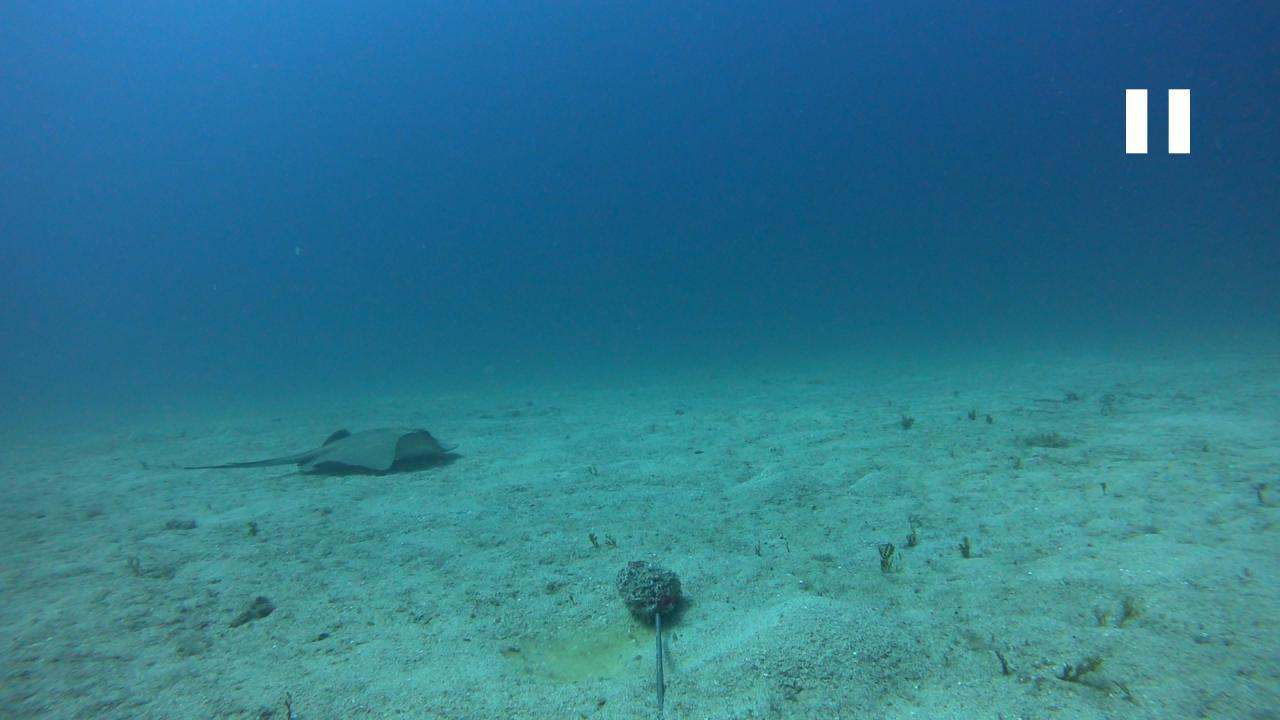dasyatis: (175, 427, 460, 471)
